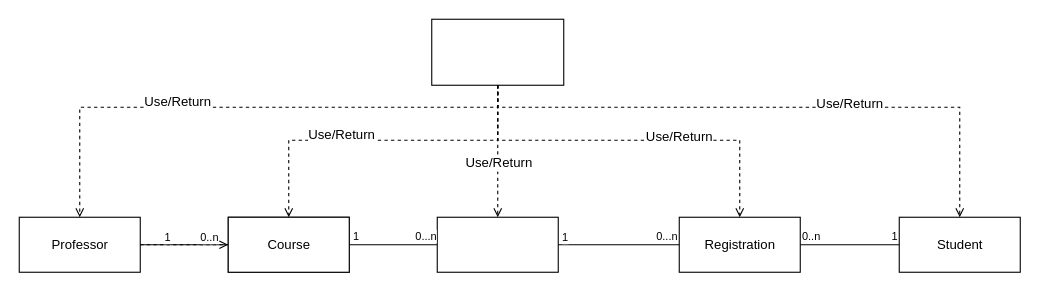
This 1040x292 diagram has some shape labels left out. Each missing label, with the centre of its shape:
"DBManager" goes at [497,51].
"Exam" goes at [497,244].
